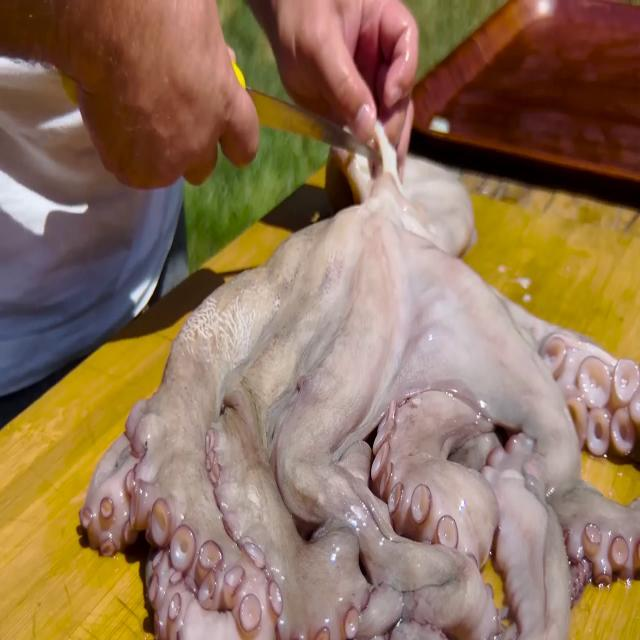octopus: (76, 121, 640, 640)
